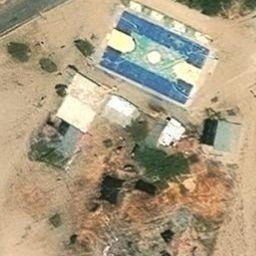manzanas: (26, 65, 109, 174), (200, 116, 239, 154)
